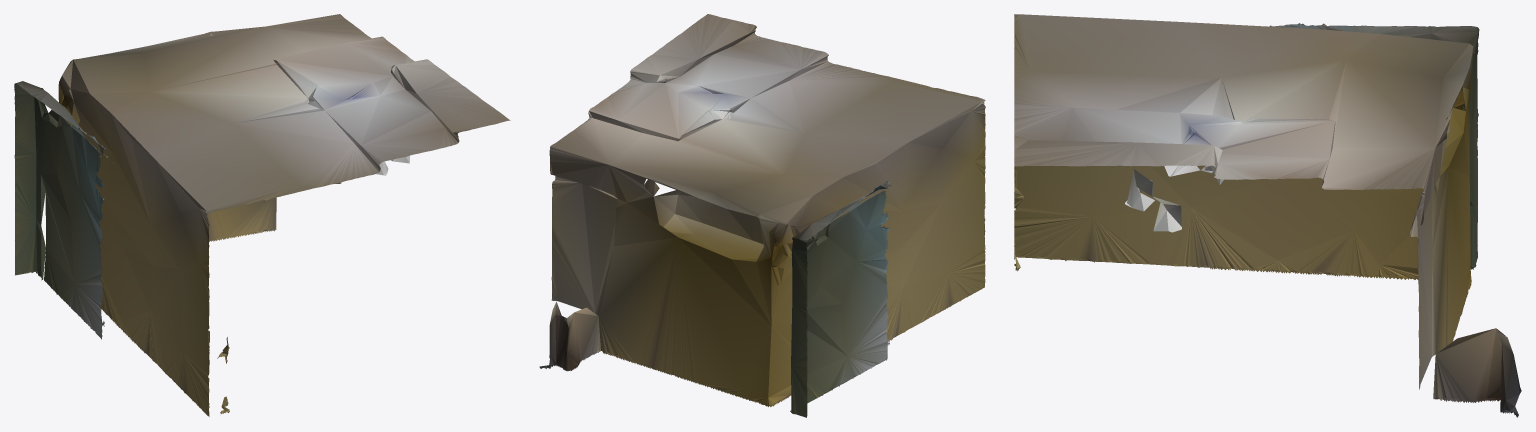
Rendered from coarse.glb.
3 renders of one model, left to right at view 1: azimuth 30°, elevation 25°; view 2: azimuth 150°, elevation 25°; view 3: azimuth 270°, elevation 25°, orthographic. The views are drawn at different scales.
Size of the model in its own units: 1.95 by 1.4 by 2.37.
